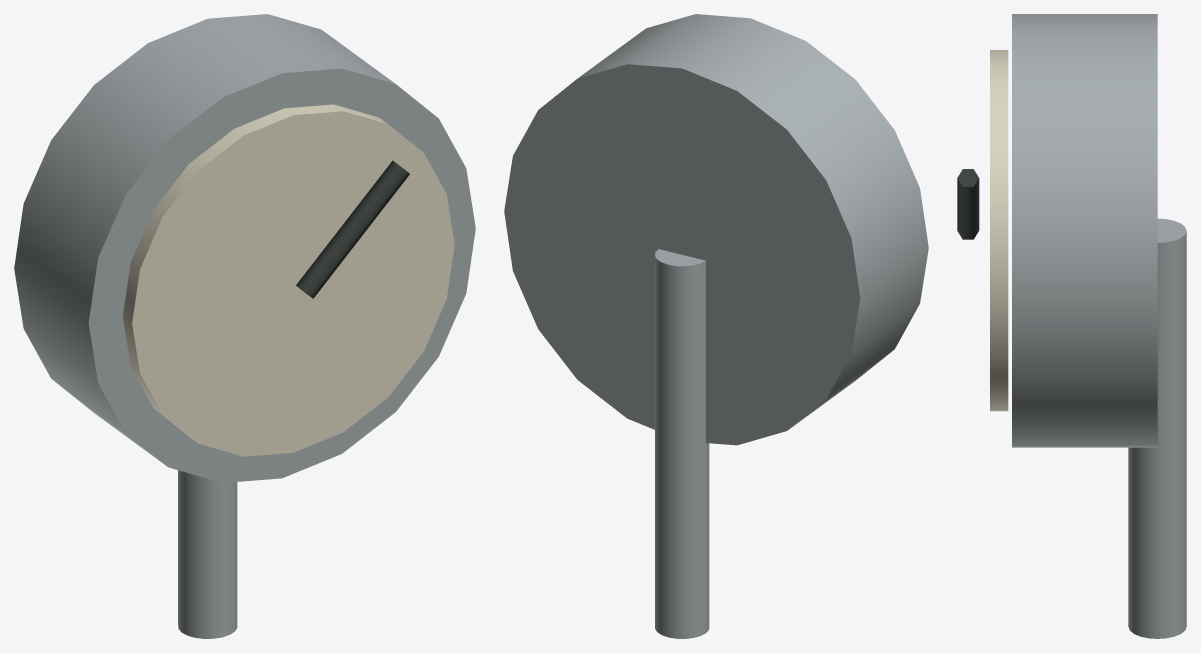
File: salvage-and-repair-workshop-dial-indicator-a1c43228__25474.glb
The picture shows the model from 3 angles, left to right: view 1: azimuth 30°, elevation 25°; view 2: azimuth 150°, elevation 25°; view 3: azimuth 270°, elevation 25°; orthographic projection. The views are drawn at different scales.
Visible parts, largest first — view 1: dial-indicator; view 2: dial-indicator; view 3: dial-indicator.
Part boxes in pixels (left/top/right/bottom): dial-indicator: left=14, top=14, right=475, bottom=638; dial-indicator: left=504, top=14, right=928, bottom=638; dial-indicator: left=957, top=14, right=1186, bottom=638.
Bounding box in the file's own units: 0.12 × 0.18 × 0.063.
